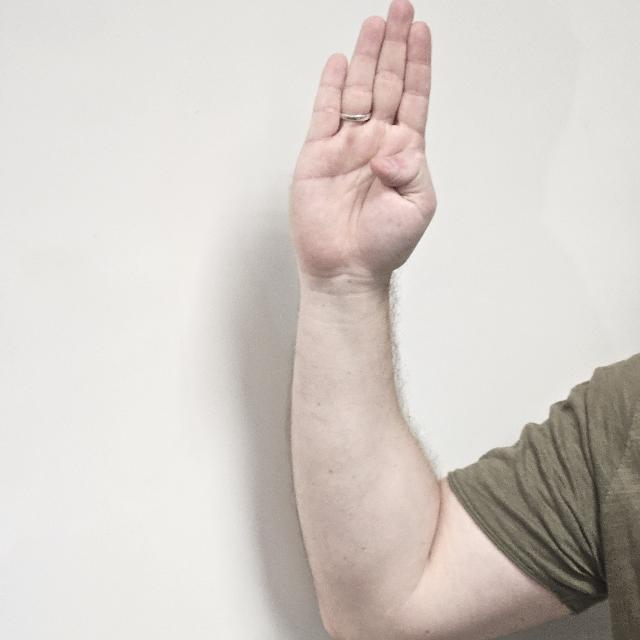Baixo: (294, 1, 436, 315)
